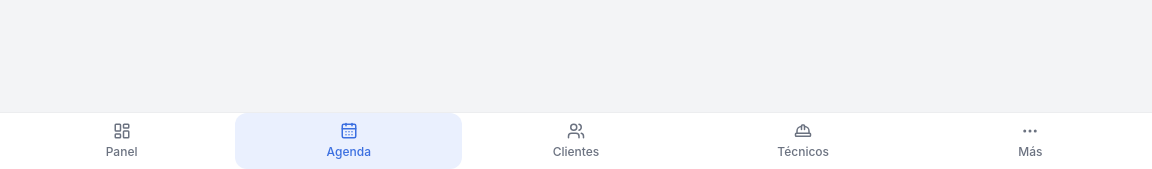
BottomNav › "Más" abre un menú con Tipos de servicio y Configuración
Check: the link "Tipos de servicio" is not shown
Click the button "Más": x=1030, y=141 [917, 113, 1144, 168]
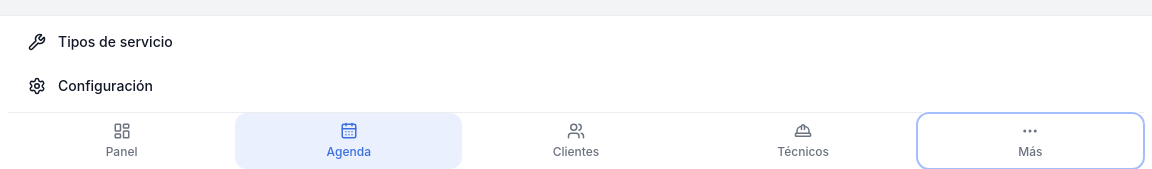
Check: the button "Más" is expanded, box [917, 113, 1144, 168]
Check: the links read "Tipos de servicio", "Configuración", in this order, box [28, 33, 173, 51]; [28, 77, 153, 95]
